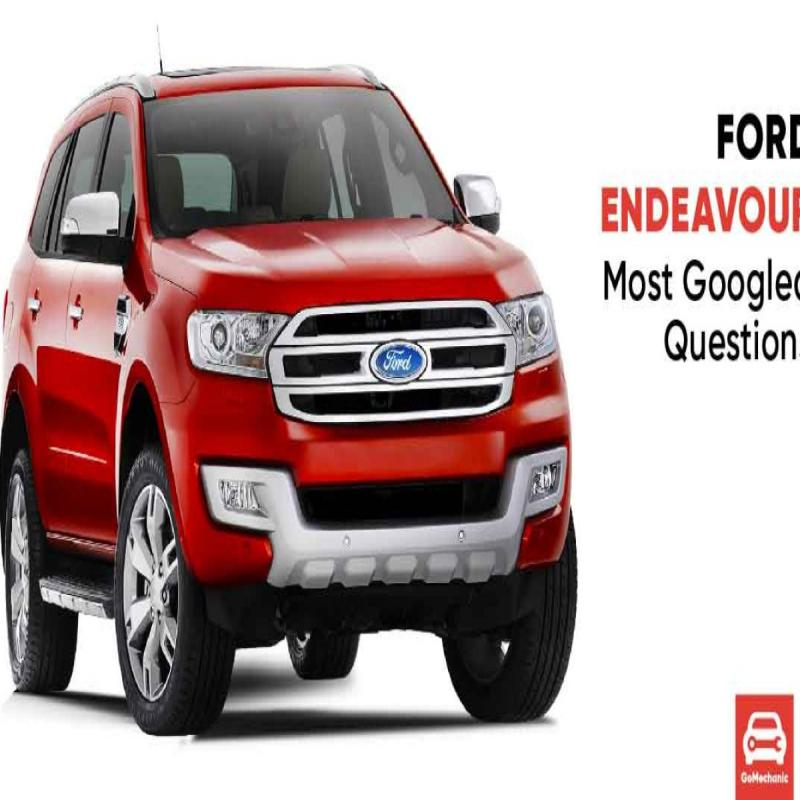car: (18, 60, 585, 737)
